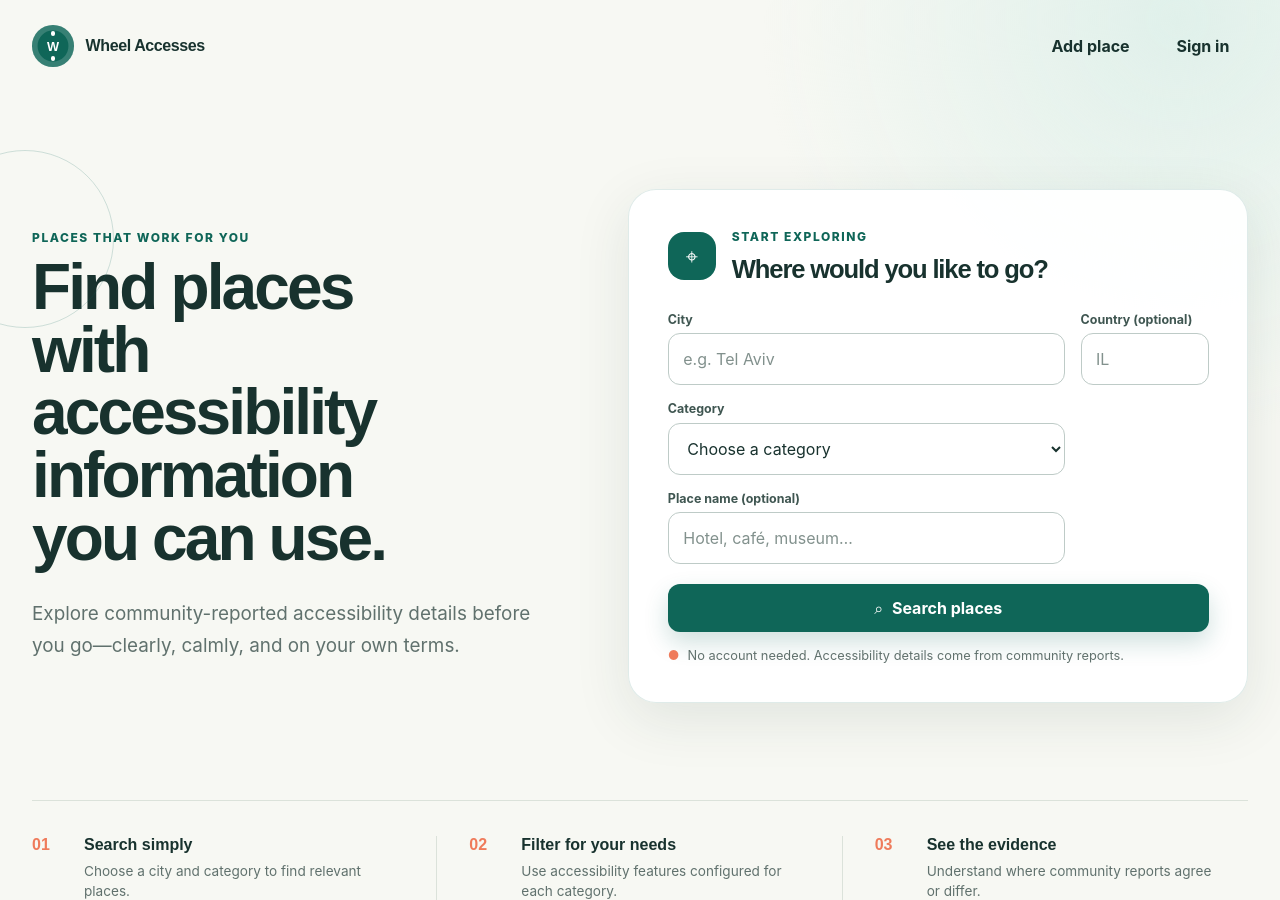
Test: home search › loads category options and submits search state to the results API
Type "Tel Aviv" into the field labelled "City" at coordinates (866, 359), box x1=668 y1=333 x2=1065 y2=385
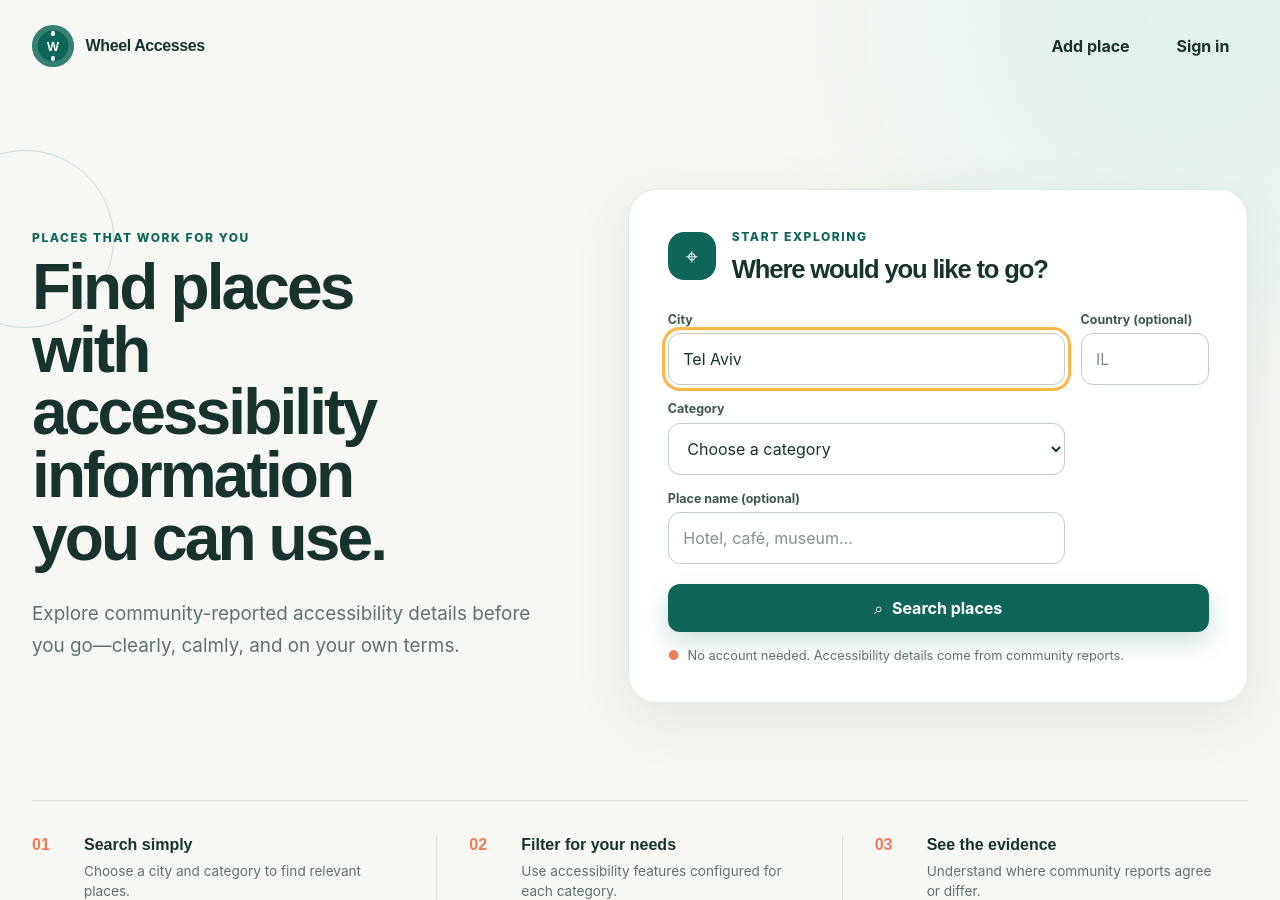
Type "il" into the field labelled "Country (optional)" at coordinates (1145, 359), box x1=1081 y1=333 x2=1209 y2=385
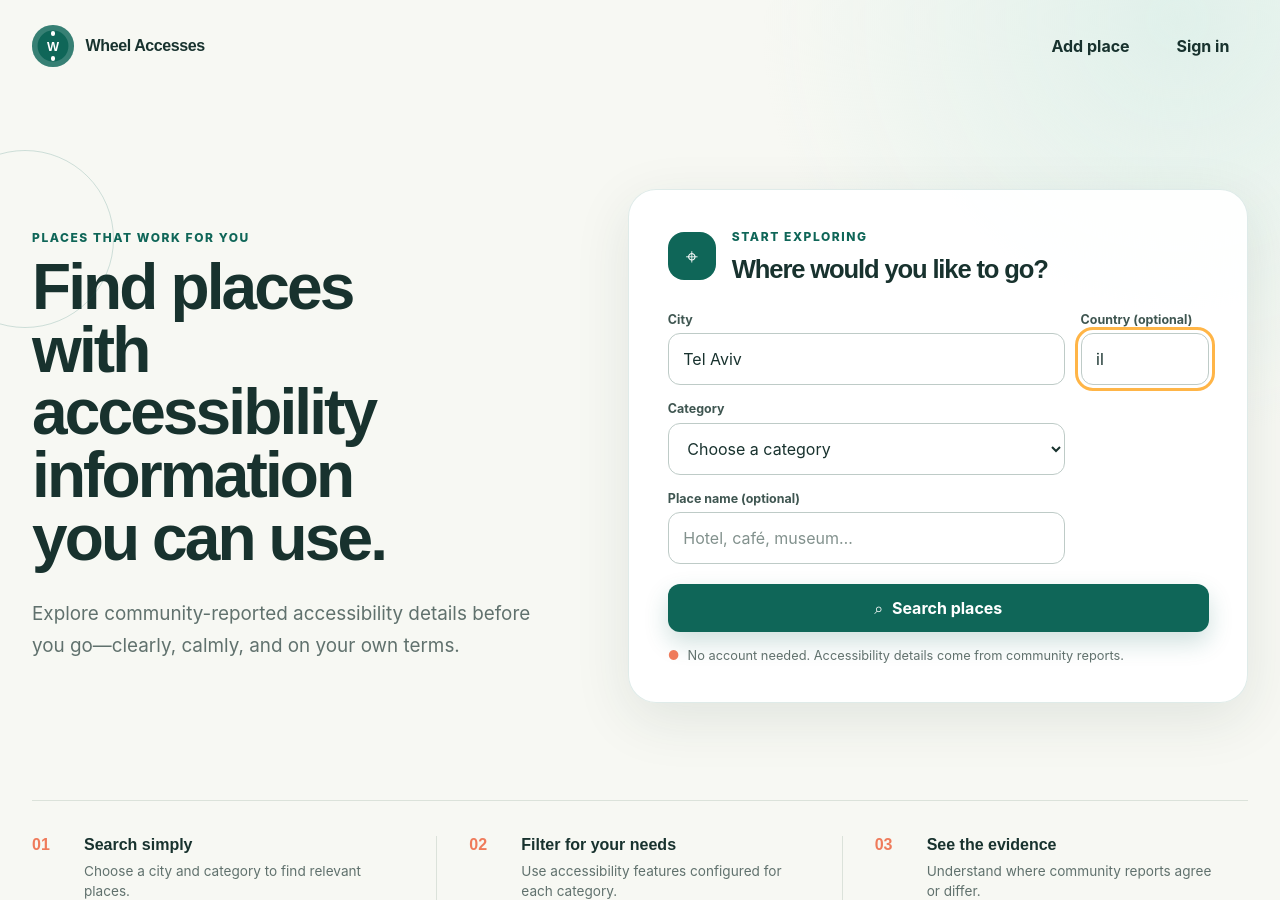
Select "Hotels" in the dropdown labelled "Category" at coordinates (866, 449), box x1=668 y1=423 x2=1065 y2=475
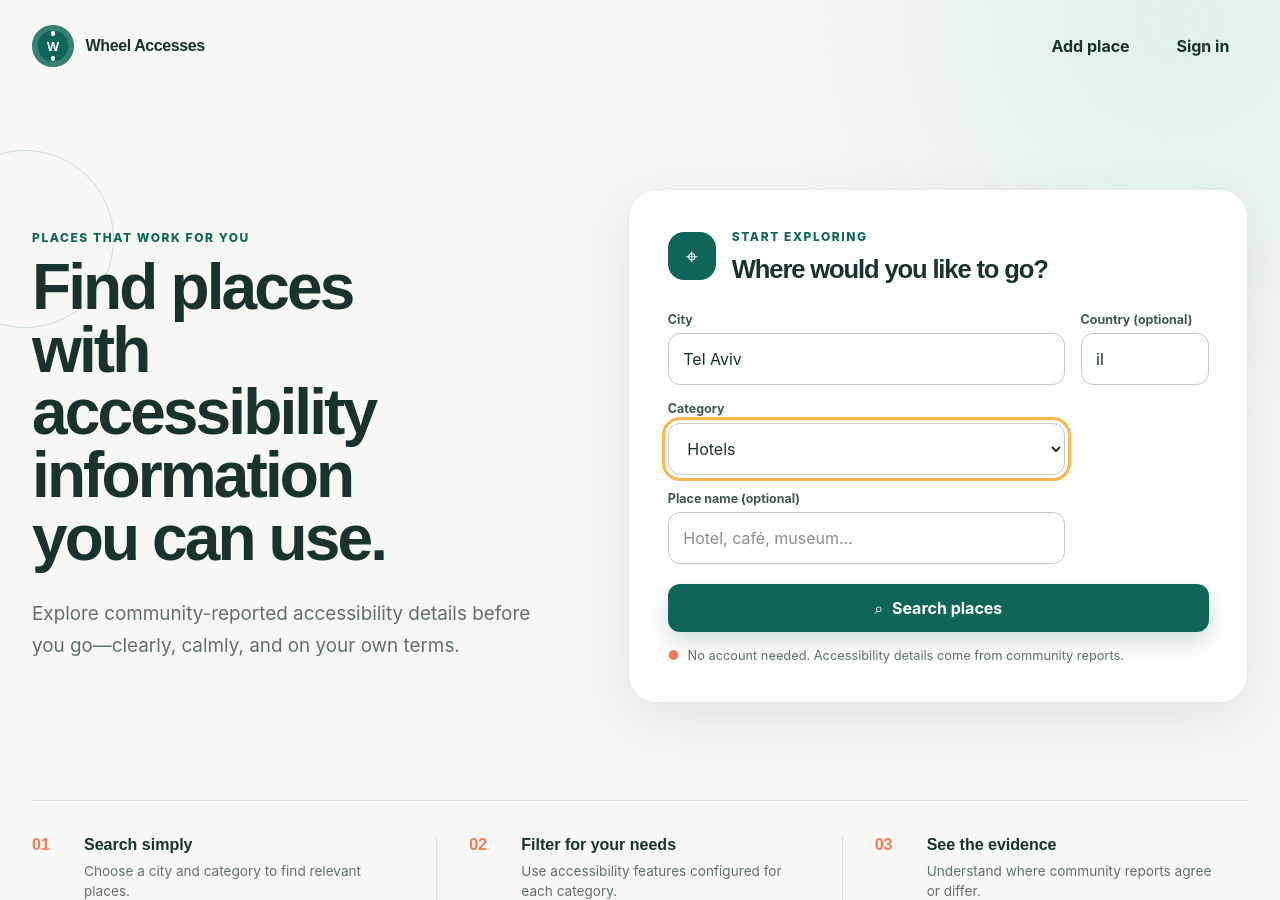
Type "Harbour" into the field labelled "Place name (optional)" at coordinates (866, 538), box x1=668 y1=512 x2=1065 y2=564
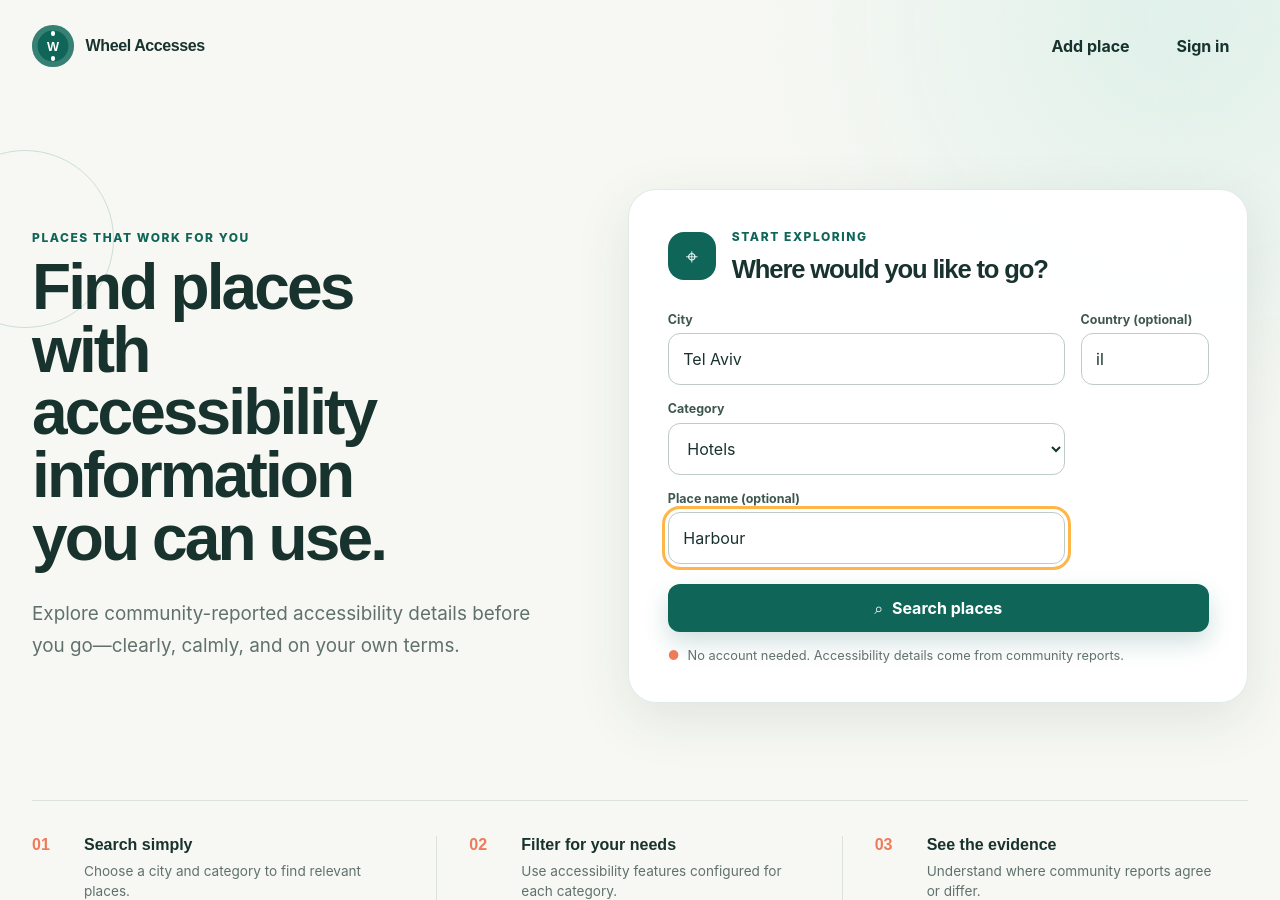
Click the button "⌕ Search places" at coordinates (938, 608), box x1=668 y1=584 x2=1209 y2=632
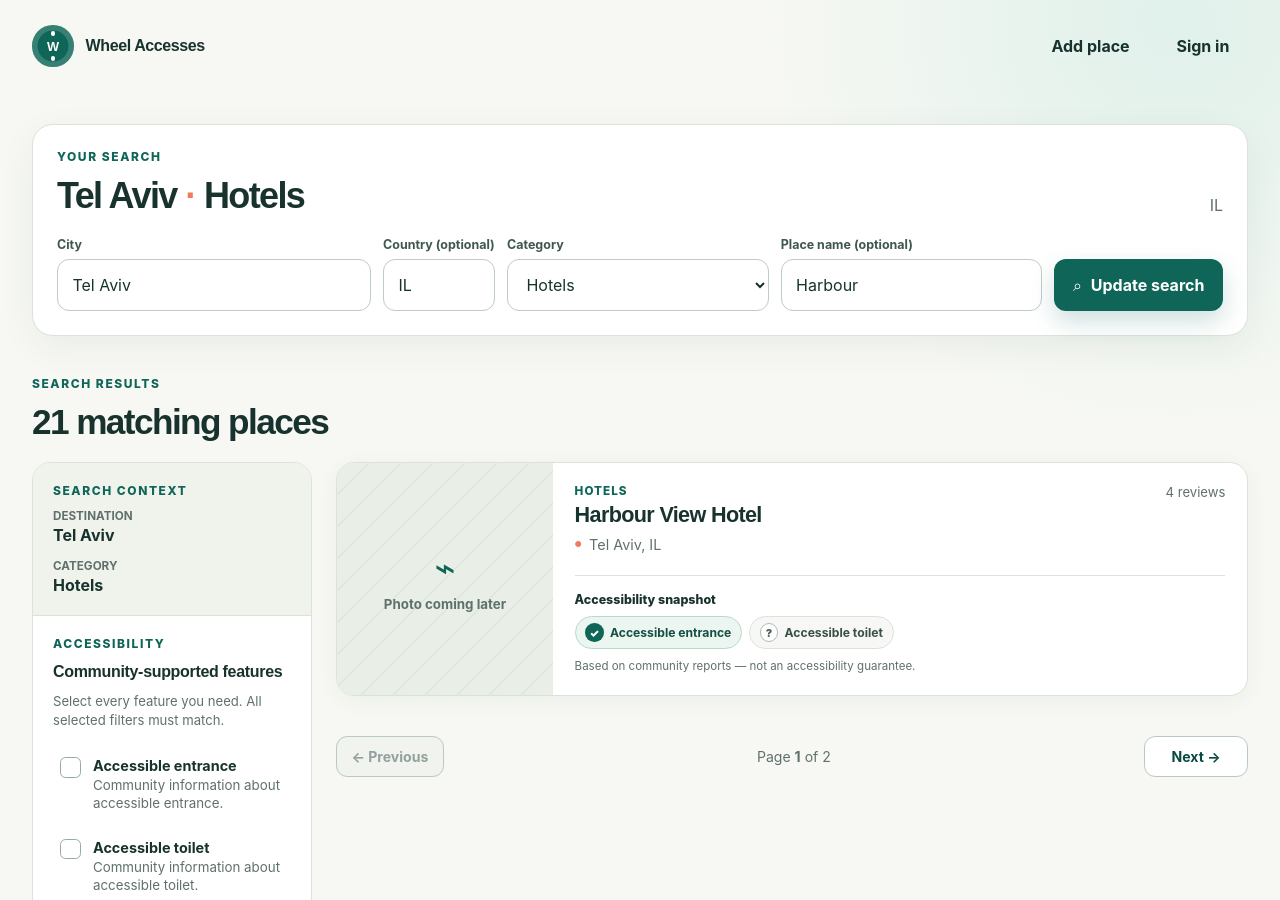
Result: the heading "Harbour View Hotel" is shown at x1=575 y1=502 x2=762 y2=528
Result: the text "Tel Aviv" is shown at x1=53 y1=525 x2=114 y2=545
